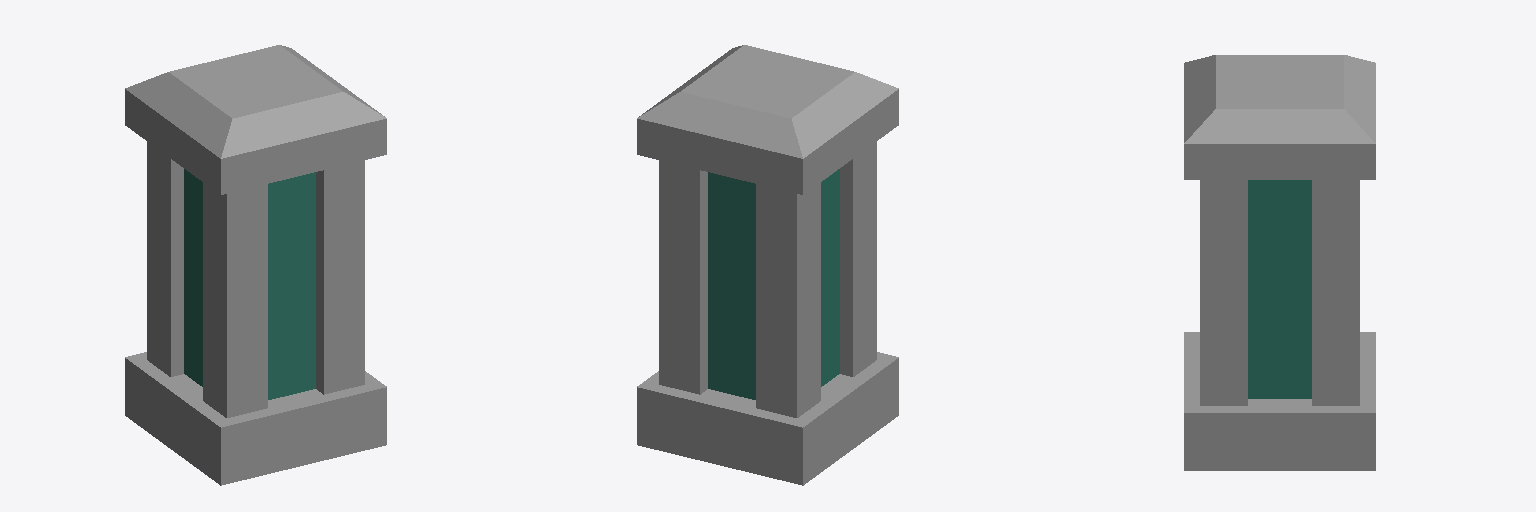
File: Pedestal.obj
The picture shows the model from 3 angles: view 1: azimuth 30°, elevation 25°; view 2: azimuth 150°, elevation 25°; view 3: azimuth 270°, elevation 25°; orthographic projection.
Parts seen in each view (by area): view 1: object1; view 2: object1; view 3: object1.
Part boxes in pixels (x1,y1,x2,y2): object1: (125, 45, 386, 485); object1: (637, 45, 898, 485); object1: (1184, 55, 1375, 470).
Size of the model in its own units: 0.3 by 0.6 by 0.3.